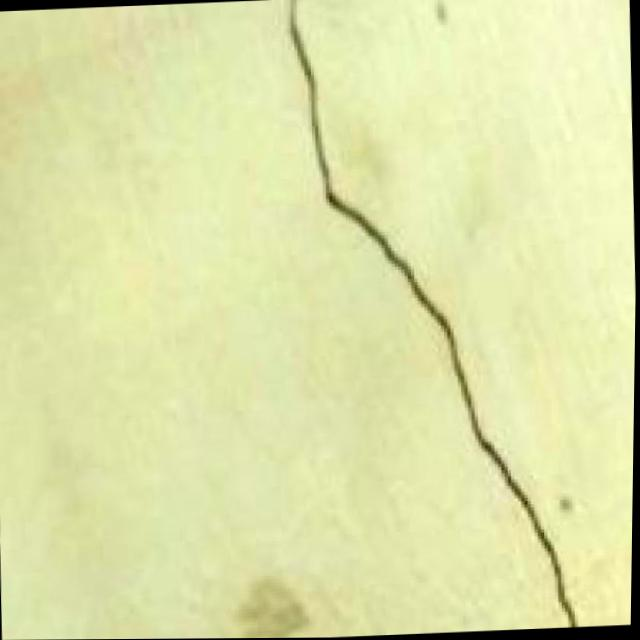Crack: (256, 0, 597, 638)
